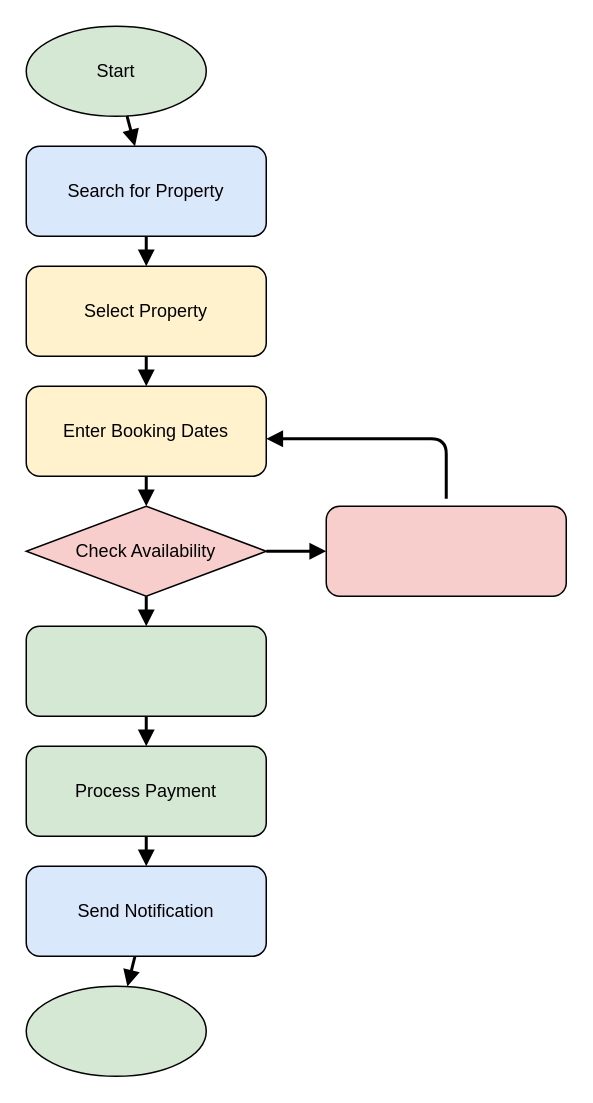
This 593x1103 diagram has some shape labels left out. Each missing label, with the box of its shape:
Confirm Booking: (25, 625, 266, 716)
End: (25, 985, 206, 1076)
Show Error / Try Again: (325, 505, 566, 596)
